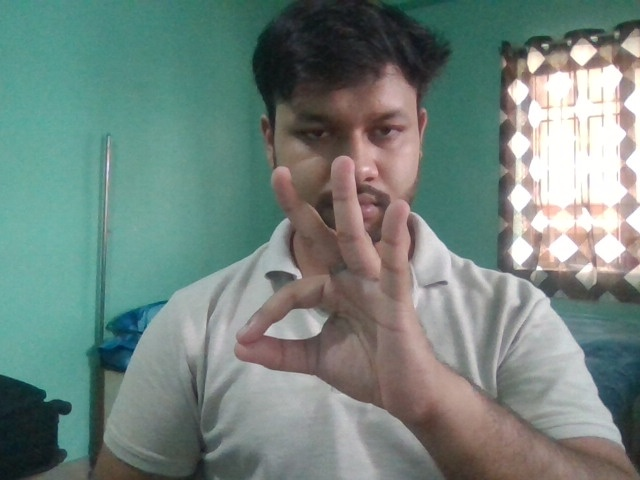Ok: (233, 153, 432, 432)
